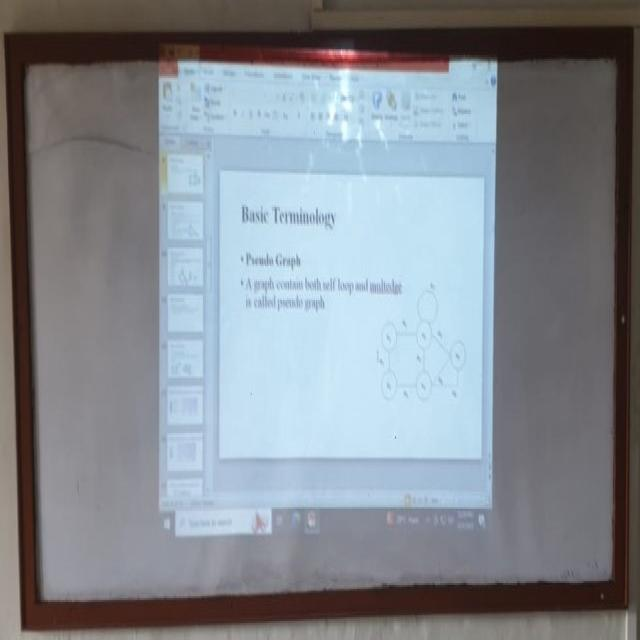Slide: (156, 45, 498, 549)
White-board: (14, 44, 627, 609)
